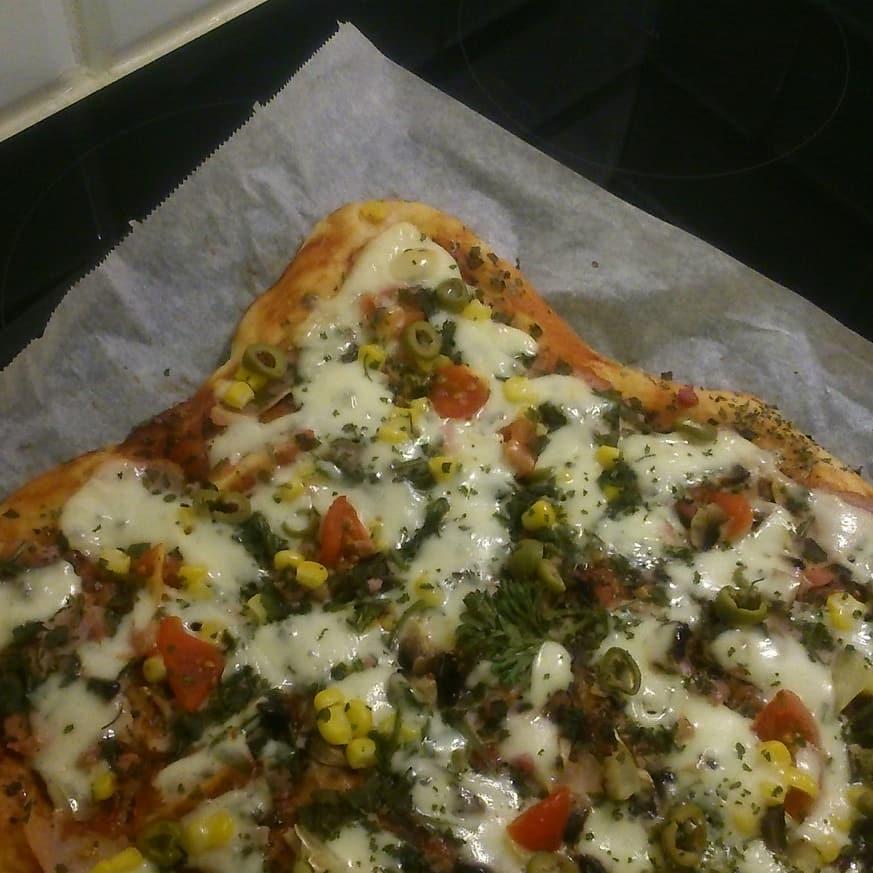Corn: (826, 585, 869, 637), (185, 612, 237, 651), (353, 334, 398, 379), (138, 548, 169, 607), (82, 755, 120, 803), (312, 705, 354, 747), (90, 843, 146, 873), (265, 542, 312, 576), (754, 736, 797, 773), (722, 796, 759, 836), (371, 419, 407, 457), (425, 451, 466, 484), (306, 682, 349, 713), (588, 439, 630, 470), (784, 770, 820, 806), (502, 372, 535, 411), (176, 561, 211, 597), (215, 380, 257, 410), (344, 699, 376, 738), (99, 542, 135, 576), (139, 650, 170, 689), (522, 500, 559, 532), (749, 773, 785, 804), (344, 737, 378, 768), (296, 563, 331, 591), (462, 295, 495, 324), (388, 401, 418, 422), (250, 372, 276, 395), (412, 395, 436, 419), (234, 364, 258, 386)
Olives: (653, 794, 711, 873), (501, 532, 568, 598), (132, 815, 190, 873), (590, 641, 644, 703), (235, 338, 296, 391), (711, 577, 771, 628), (402, 319, 445, 361), (429, 273, 472, 315), (277, 503, 325, 539)
Pizza: (0, 194, 873, 873)
Tomatoes: (149, 610, 231, 717), (750, 686, 836, 758), (665, 485, 759, 549), (313, 494, 381, 575), (510, 782, 573, 854), (426, 360, 494, 426)
